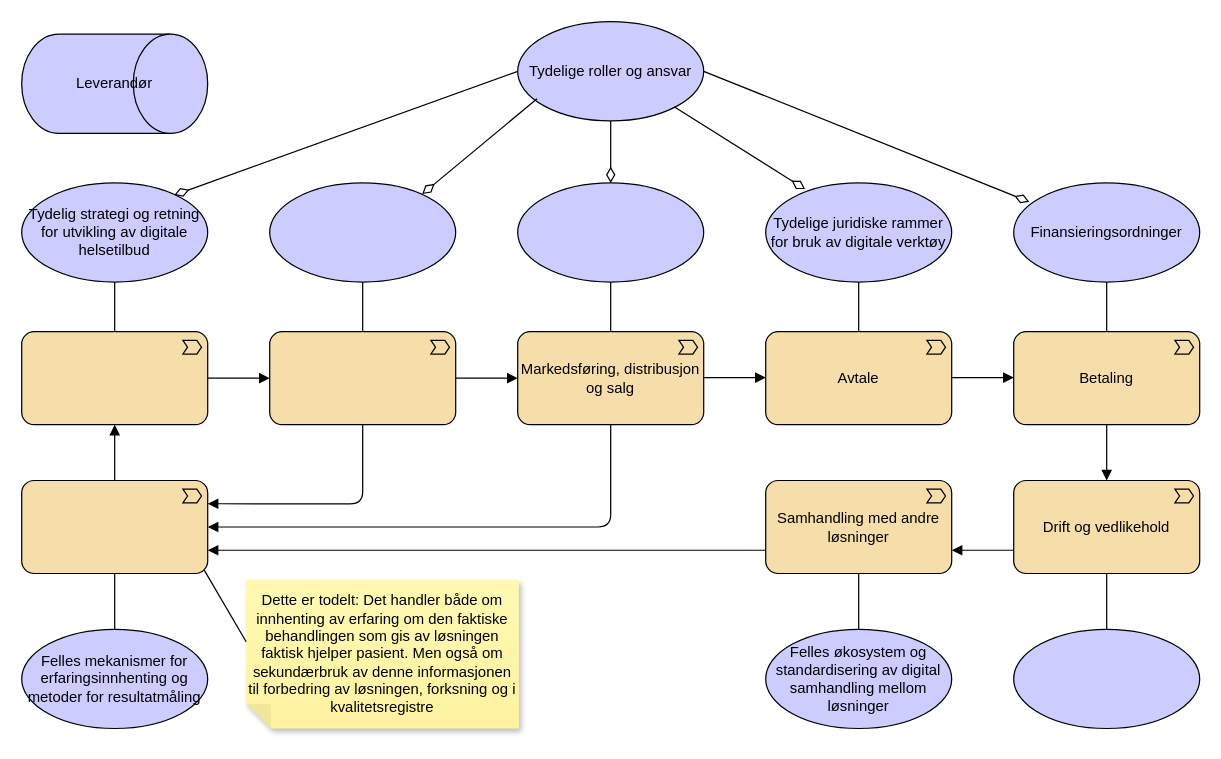
This 1221x759 diagram has some shape labels left out. Each missing label, with the centre of its shape:
"Erfaring" belongs at (114,526).
"Felles plattform for logging og feilhåndtering" belongs at (1106,678).
"Kvalitetssikring og godkjenning" belongs at (362,377).
"Produkt ide og utvikling" belongs at (114,377).
"Tilgang til makedsplass og distribusjonskanal" belongs at (610,232).
"Tydelige og felles krav til kvalitet og etablert kvalitetssikringsordning" belongs at (362,232).
